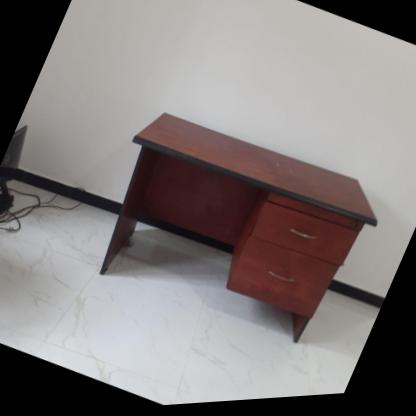Ceramic floor: (0, 204, 379, 407)
Table: (60, 82, 408, 402)
